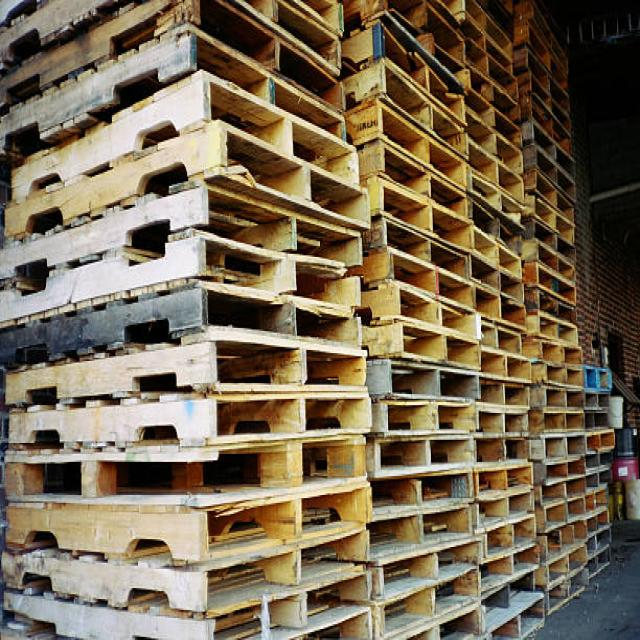Wooden-Pallets: (9, 64, 363, 205), (3, 122, 373, 252), (0, 236, 364, 331), (0, 484, 371, 573), (3, 338, 377, 421), (374, 102, 472, 201), (375, 171, 475, 258), (384, 245, 479, 324), (366, 503, 474, 566), (372, 427, 475, 484)
